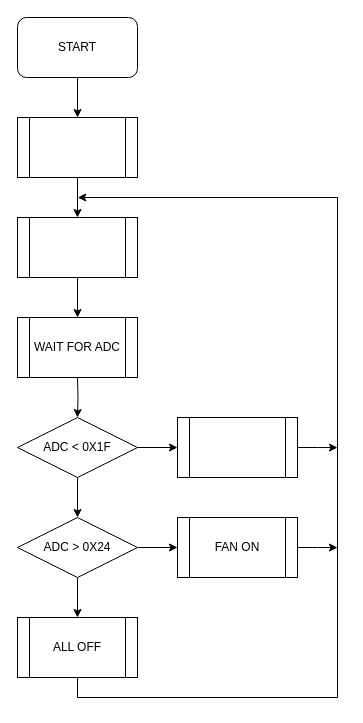
The diagram is 363 pixels wide and 723 high, and some of its shapes have lost their labels. Here are the shapes that lost their labels. From the top down, the centre of each, then its label:
At [77,147]: "SETPORT".
At [77,247]: "REQUEST ADC".
At [237,447]: "HEAT ON".
